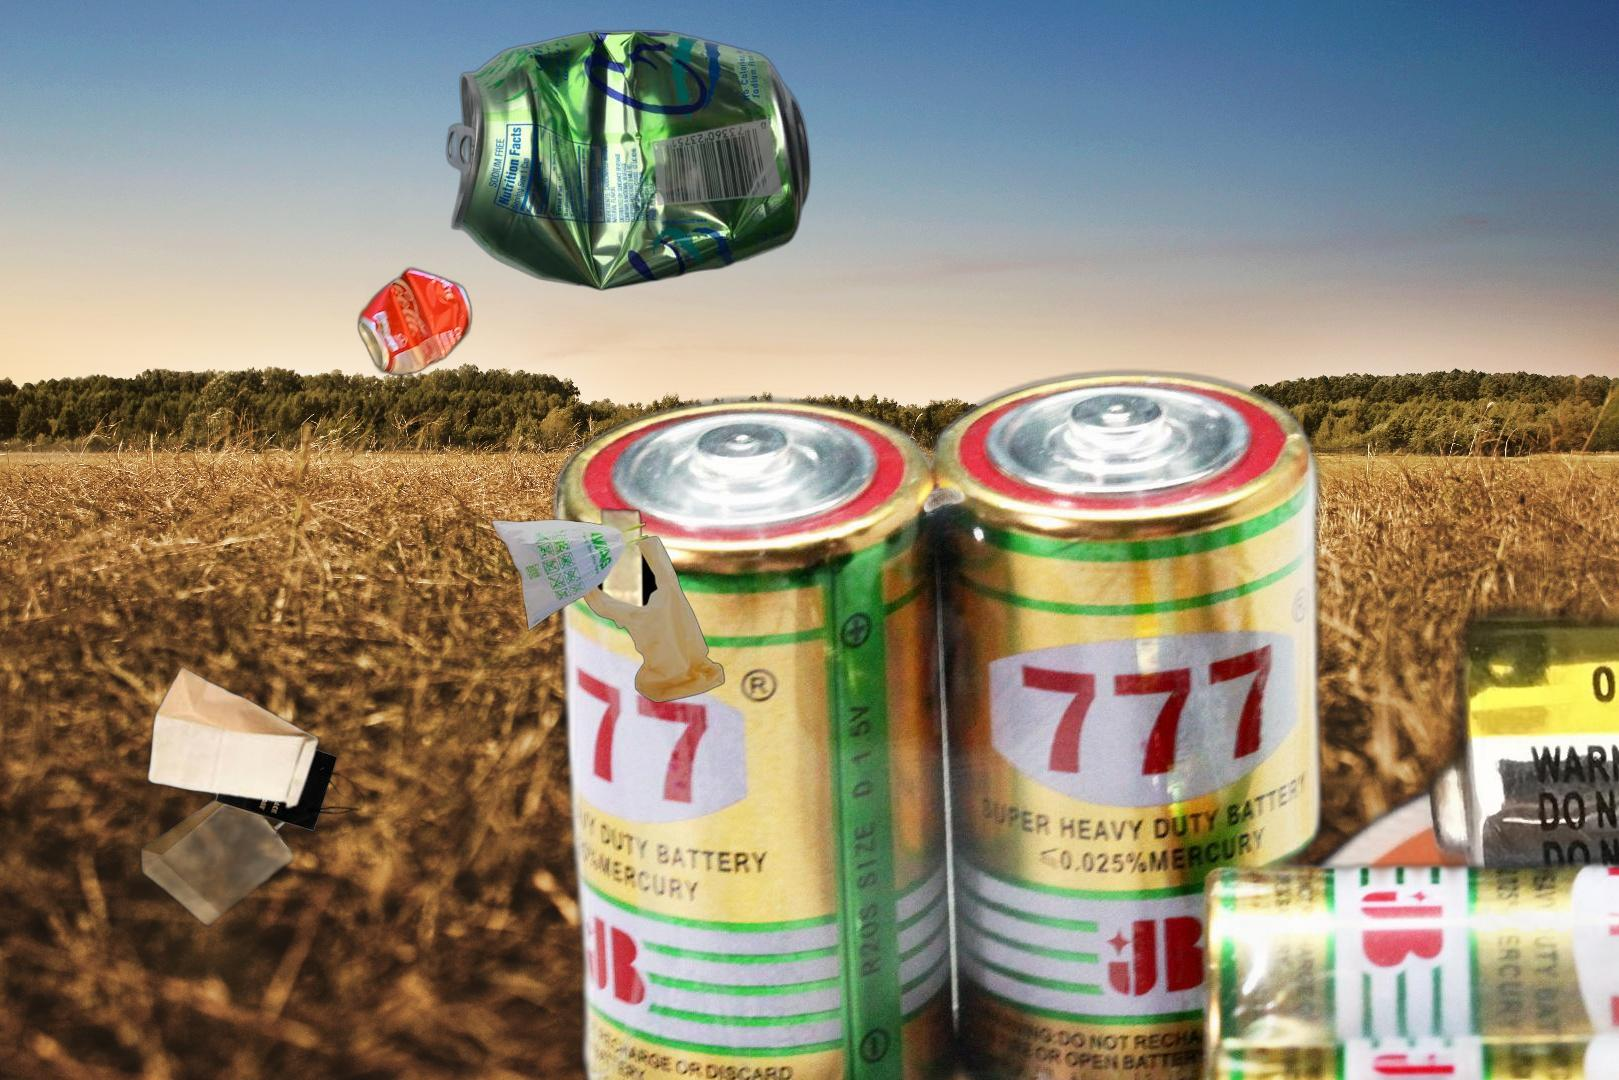battery: (539, 360, 1619, 1080), (1199, 551, 1619, 1080)
metal-cans: (353, 262, 782, 865), (442, 29, 813, 293)
paper-bag: (137, 661, 366, 931)
plastic-bag: (489, 505, 728, 704)
trash: (800, 1047, 980, 1080)
